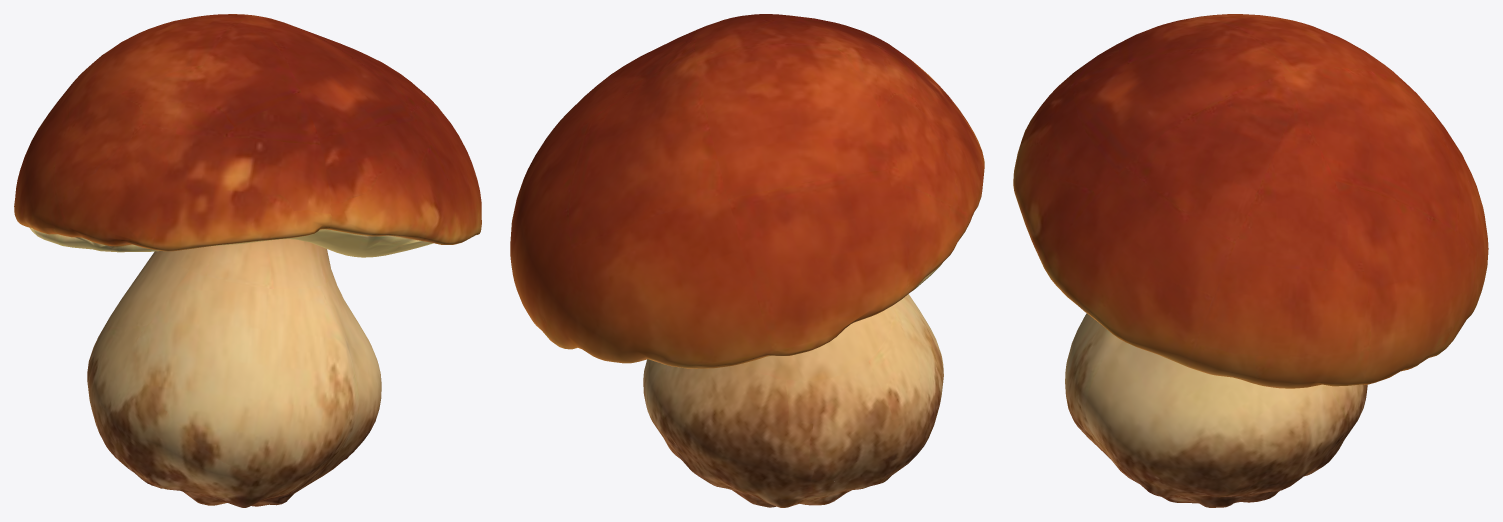
The model's file is bolete.glb.
3 views of the same model, side by side, from view 1: azimuth 30°, elevation 25°; view 2: azimuth 150°, elevation 25°; view 3: azimuth 270°, elevation 25° (orthographic). The views are drawn at different scales.
Parts seen in each view (by area): view 1: tripo_node_4ce3a7fa-77a2-43b8-be62-cafc201859ef; view 2: tripo_node_4ce3a7fa-77a2-43b8-be62-cafc201859ef; view 3: tripo_node_4ce3a7fa-77a2-43b8-be62-cafc201859ef.
Part boxes in pixels (x1,y1,x2,y2): tripo_node_4ce3a7fa-77a2-43b8-be62-cafc201859ef: (14,14,481,507); tripo_node_4ce3a7fa-77a2-43b8-be62-cafc201859ef: (510,14,984,507); tripo_node_4ce3a7fa-77a2-43b8-be62-cafc201859ef: (1013,14,1488,507).
Bounding box in the file's own units: 0.9306 × 0.9797 × 0.9156.
Materials: 1 (1 with a texture image).
